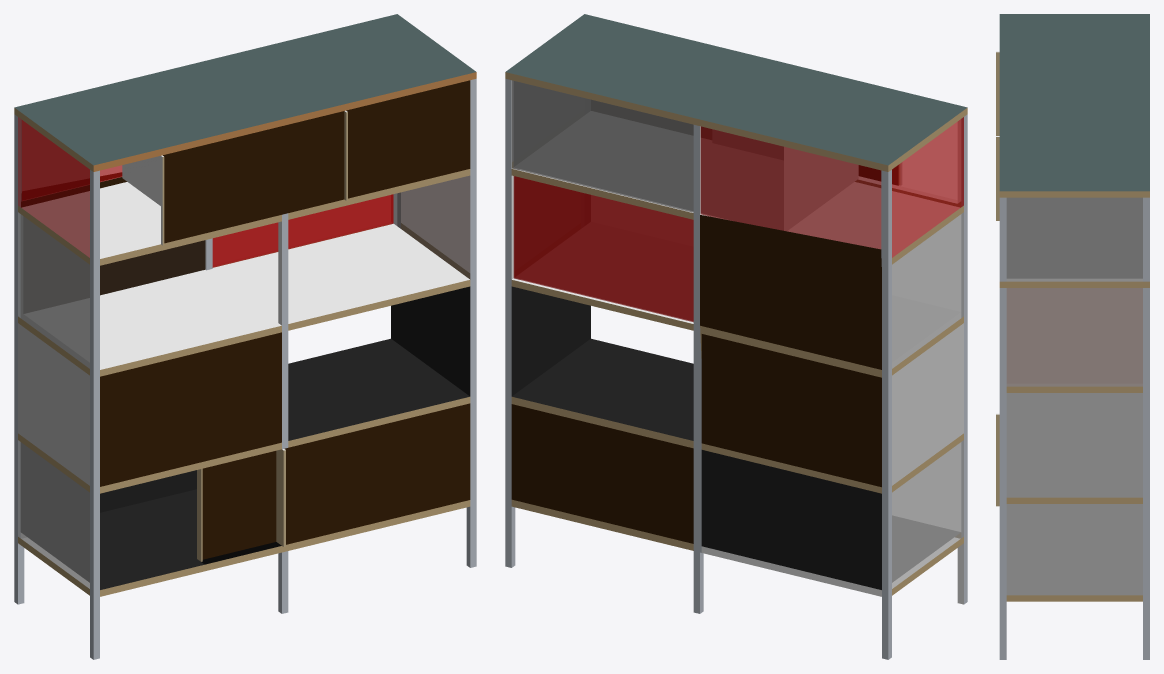
Rendered from shelf1.obj.
3 renders of one model, left to right at view 1: azimuth 30°, elevation 25°; view 2: azimuth 150°, elevation 25°; view 3: azimuth 270°, elevation 25°, orthographic. The views are drawn at different scales.
Visible parts, largest first — view 1: Mesh1 Model; view 2: Mesh1 Model; view 3: Mesh1 Model.
Boxes of the visible parts, x1,y1,x2,y2 form: Mesh1 Model: (14,14,476,659); Mesh1 Model: (505,14,967,659); Mesh1 Model: (996,14,1149,659).
Bounding box in the file's own units: 1.2 × 1.48 × 0.44.
